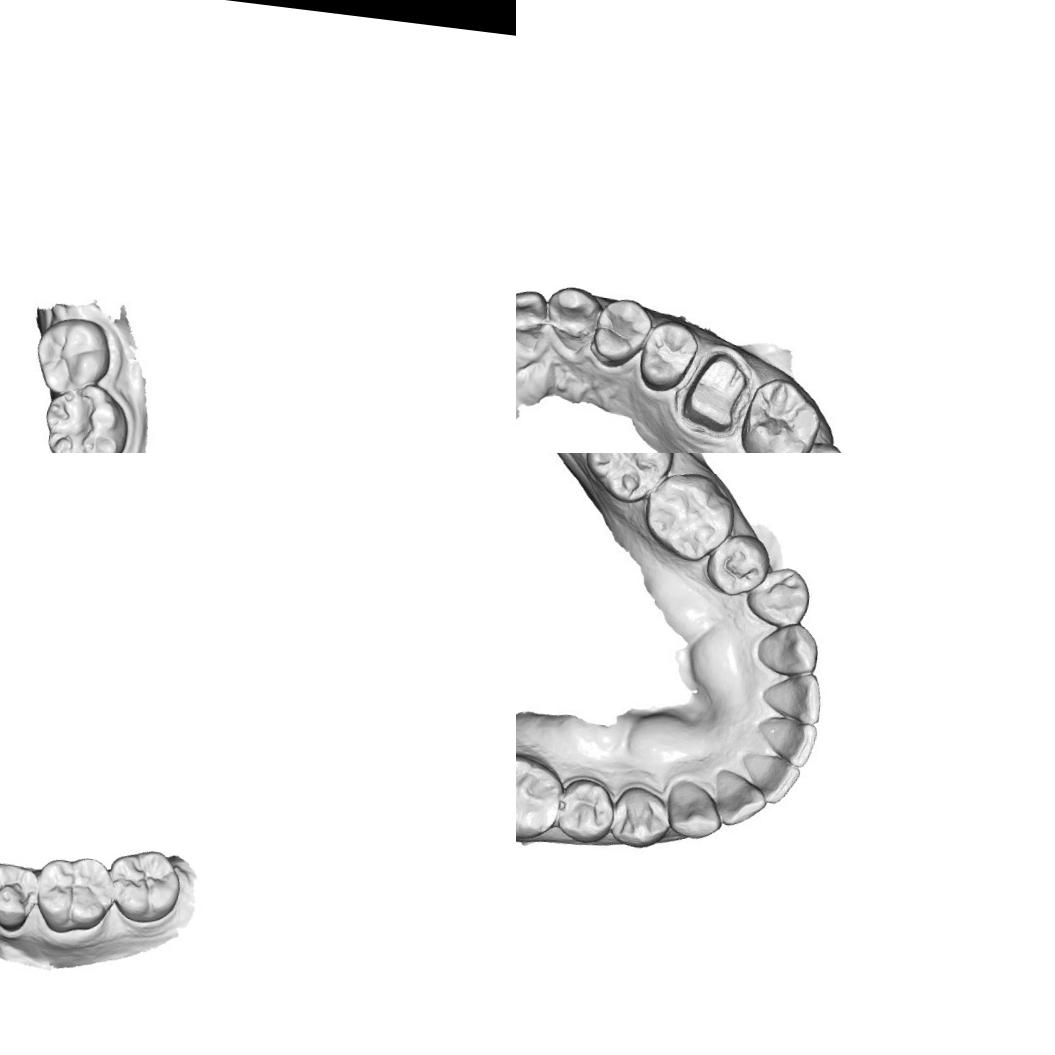canine: (756, 620, 822, 678), (666, 777, 720, 845), (548, 285, 601, 346)
crown: (682, 348, 750, 425)
incisor: (759, 714, 820, 768), (768, 669, 824, 723), (715, 768, 767, 826), (742, 748, 799, 800), (516, 289, 553, 348)
molar: (28, 850, 120, 940), (643, 469, 736, 557), (739, 374, 827, 453), (103, 845, 184, 928), (35, 318, 116, 394), (43, 384, 127, 453), (581, 453, 681, 500), (516, 750, 566, 841)
premolar: (591, 291, 656, 374), (634, 317, 701, 396), (742, 562, 813, 628), (608, 781, 672, 852), (554, 777, 620, 841), (707, 531, 768, 598), (0, 861, 44, 937)
